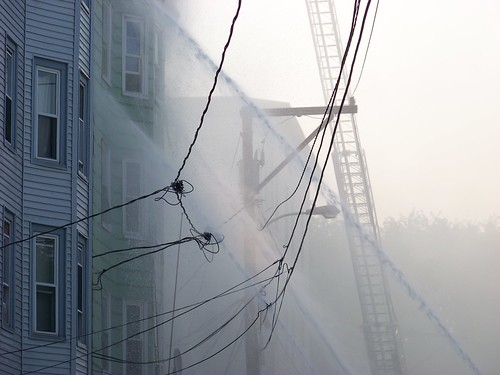building: (1, 4, 162, 375)
power pole: (218, 98, 367, 375)
